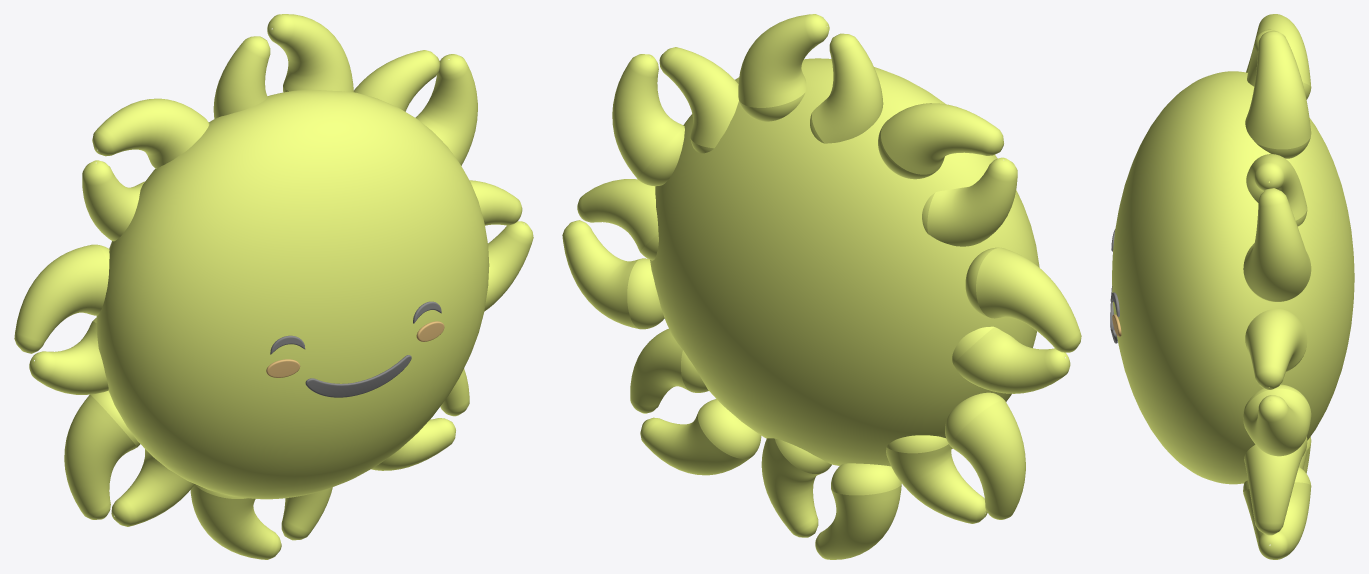
File: sun.glb
3 renders of one model, left to right at view 1: azimuth 30°, elevation 25°; view 2: azimuth 150°, elevation 25°; view 3: azimuth 270°, elevation 25°, orthographic. The views are drawn at different scales.
Parts seen in each view (by area): view 1: BODY, SUN, FACE; view 2: BODY, SUN; view 3: BODY, SUN, FACE.
Part boxes in pixels (<box>): BODY: <box>96,90,489,499</box>; SUN: <box>14,14,533,559</box>; FACE: <box>266,301,444,397</box>; BODY: <box>650,58,1039,466</box>; SUN: <box>562,14,1081,559</box>; BODY: <box>1112,71,1354,484</box>; SUN: <box>1243,14,1311,559</box>; FACE: <box>1110,229,1121,343</box>.
Size of the model in its own units: 20.66 by 20.66 by 8.83.
